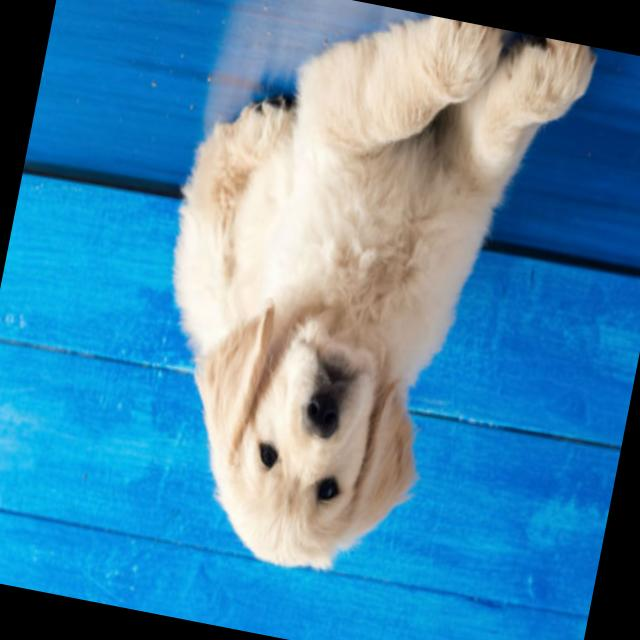dogs: (116, 0, 599, 610)
